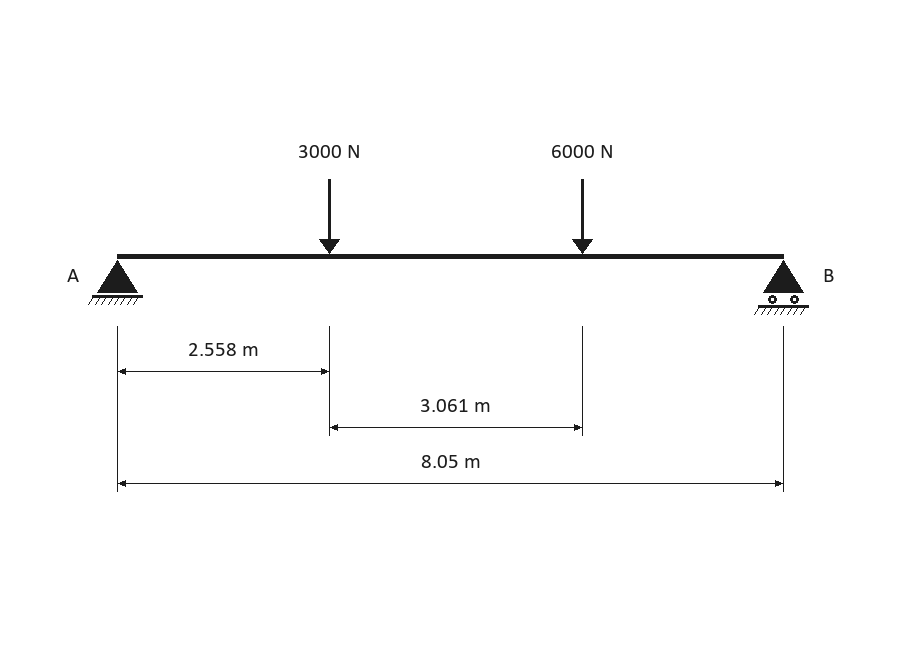pin_support: (88, 260, 143, 305)
point_load: (319, 179, 340, 254), (572, 179, 593, 254)
roller_support: (754, 260, 809, 315)
